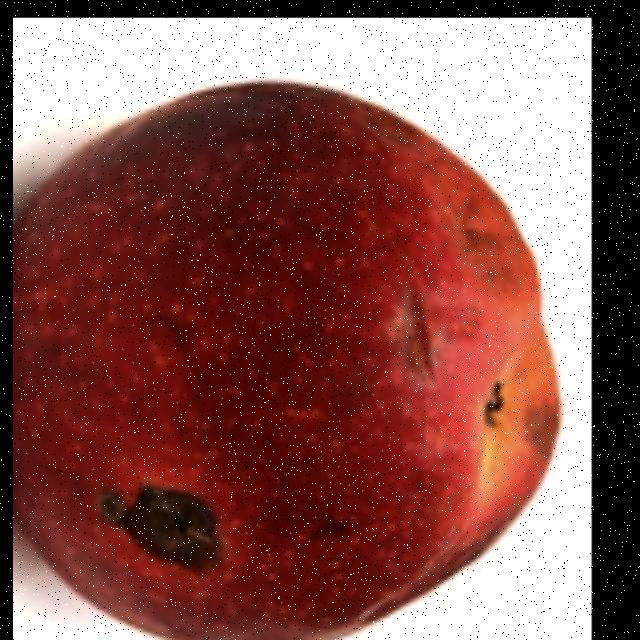Apel Tidak Segar: (12, 90, 564, 640)
